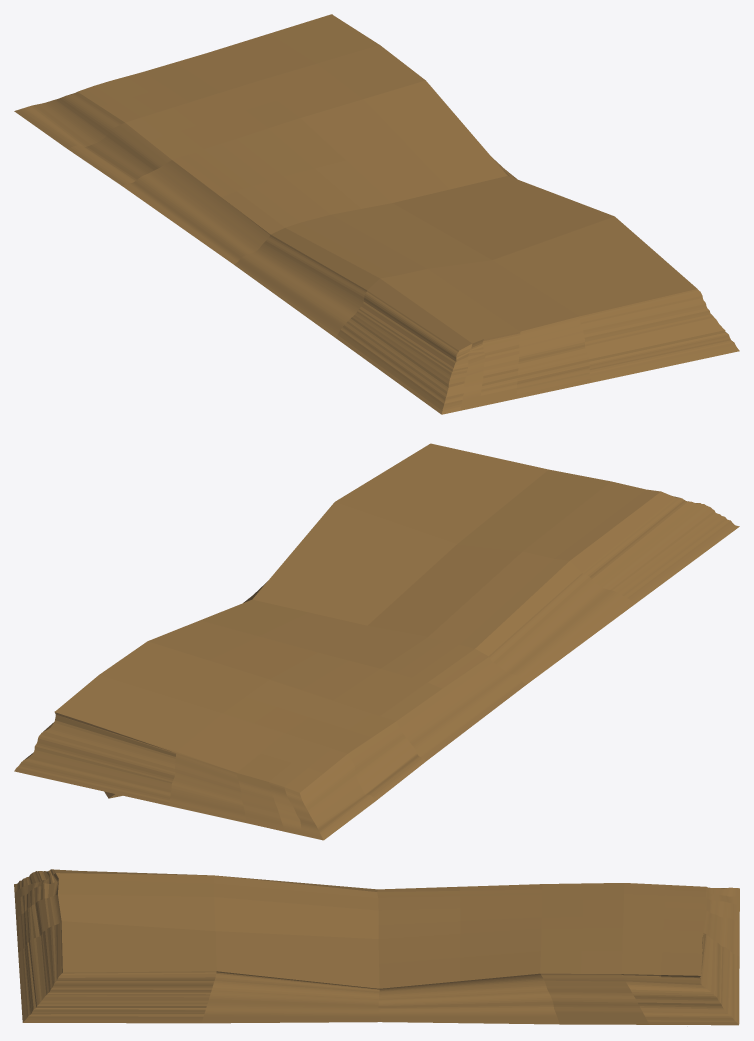
The model's file is book.glb.
3 views of the same model, one above another, from view 1: azimuth 30°, elevation 25°; view 2: azimuth 150°, elevation 25°; view 3: azimuth 270°, elevation 25° (orthographic). The views are drawn at different scales.
Parts seen in each view (by area): view 1: Cube.001; view 2: Cube.001; view 3: Cube.001.
Boxes of the visible parts, box(x1,y1,x2,y2) form: Cube.001: box(14, 14, 739, 414); Cube.001: box(14, 443, 739, 840); Cube.001: box(14, 869, 739, 1025).
Size of the model in its own units: 3.62 by 0.9636 by 8.48.
